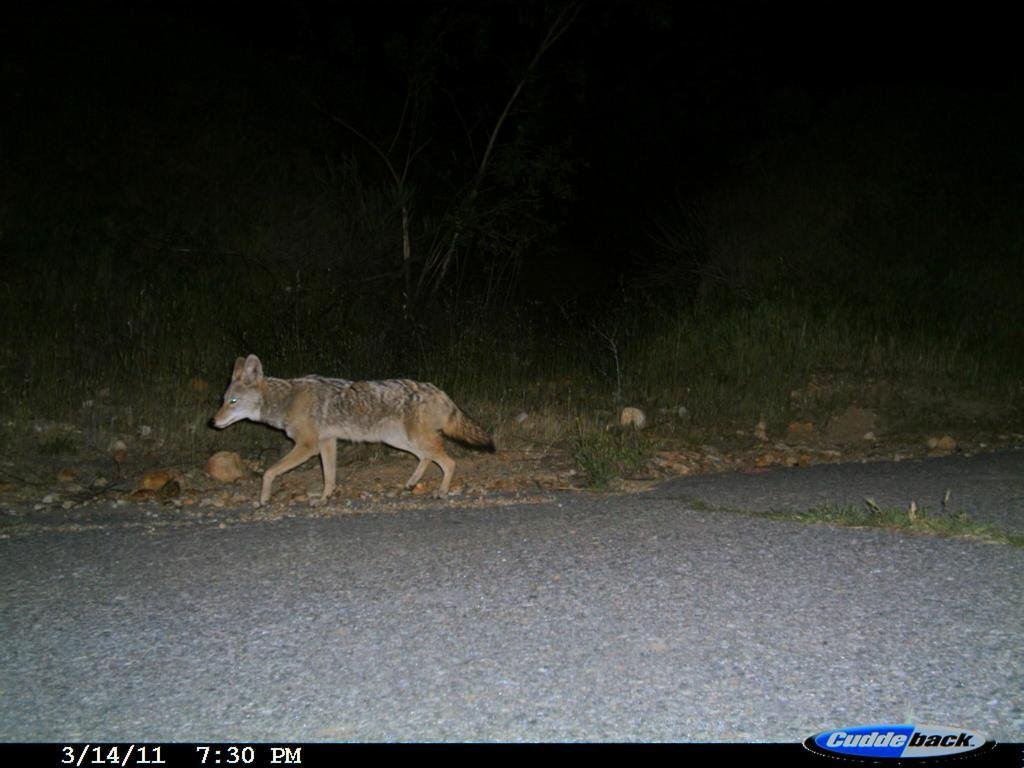coyote: (203, 350, 504, 513)
